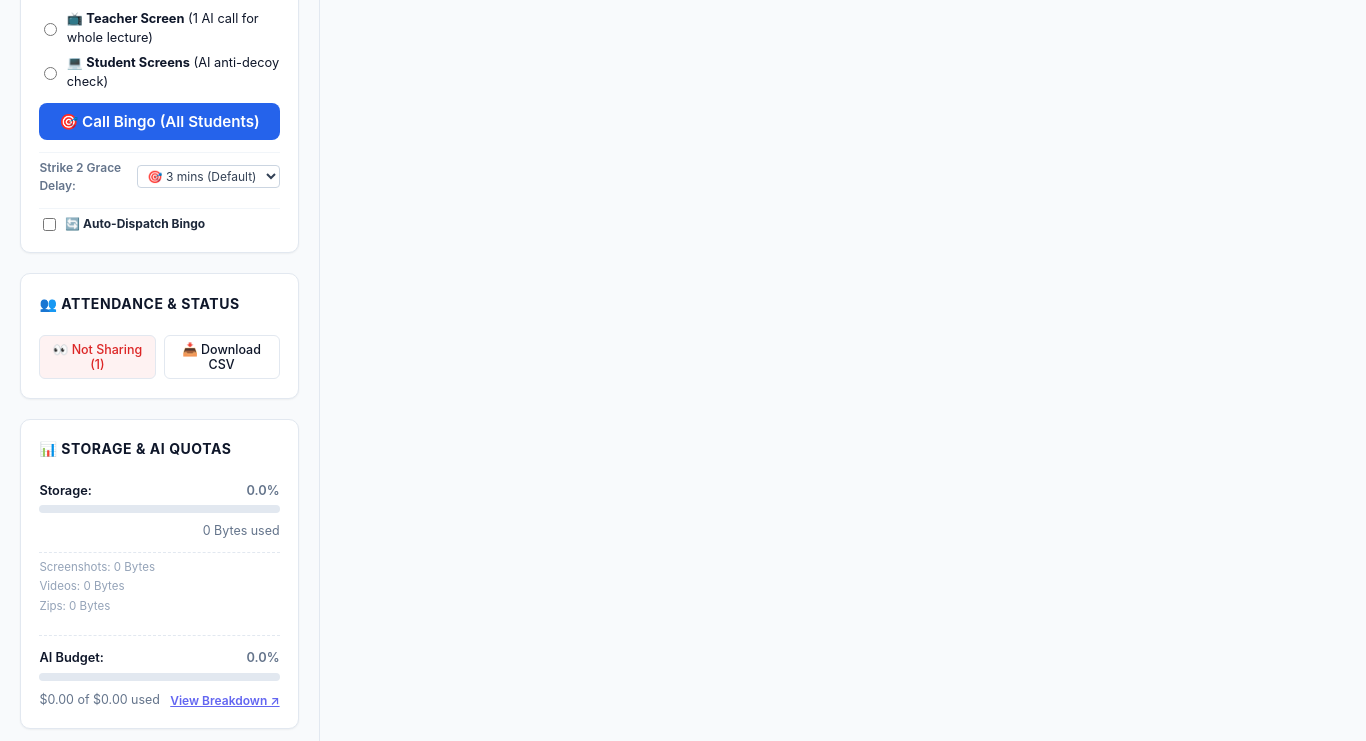
Test: MonitorView Component Suite › opens and closes Not Sharing students modal
(page scrolled)
Click the button "👀 Not Sharing (1)" at coordinates (97, 357), box [39,335,156,379]
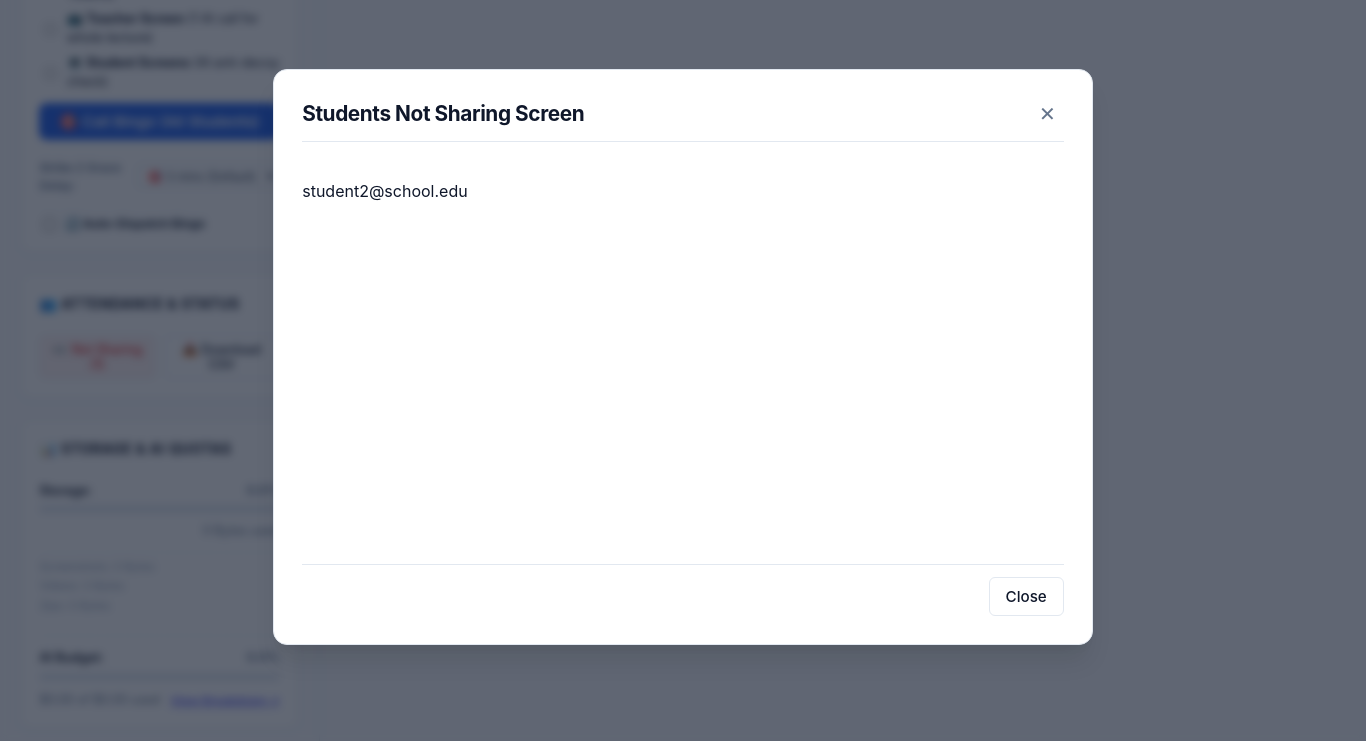
Expected: the heading "Students Not Sharing Screen" is shown, [302,98,584,129]
Note: Close modal
Click the button "Close" at coordinates (1026, 597), box [988,577,1064,616]
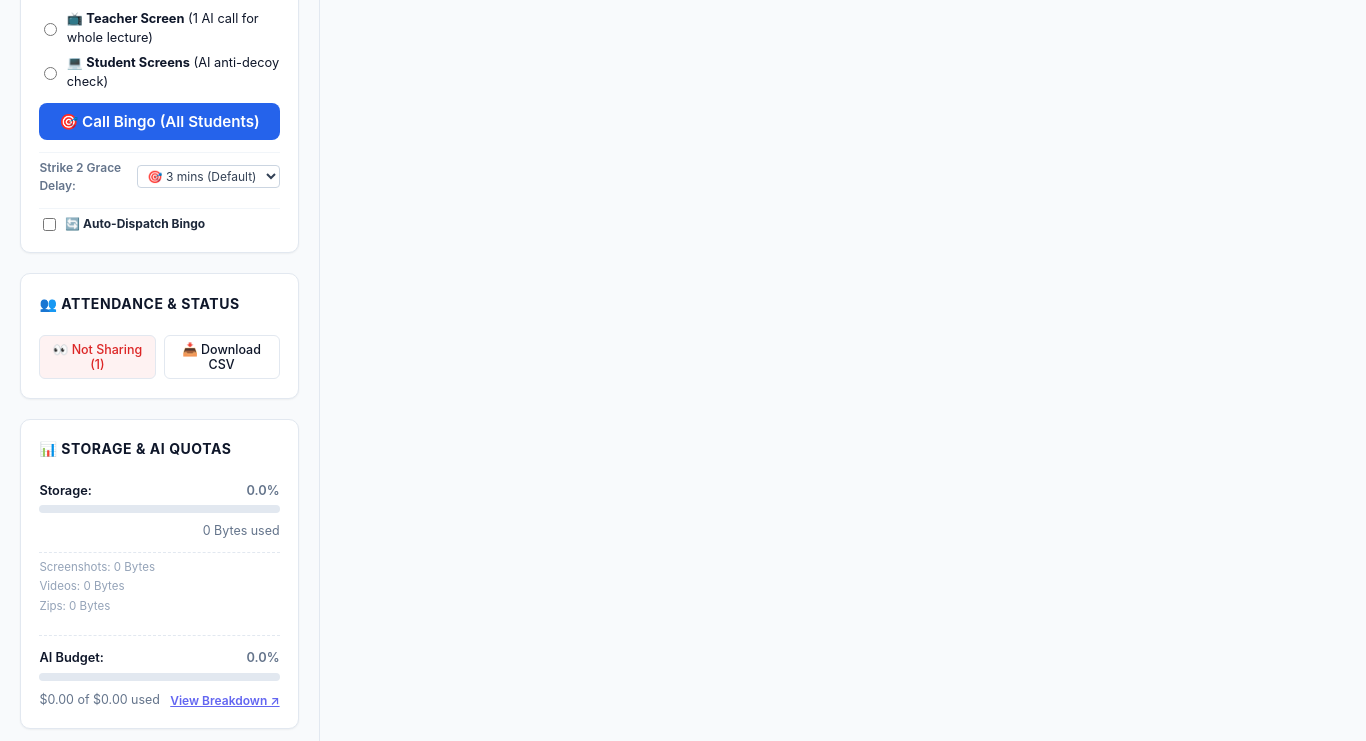
Expected: the heading "Students Not Sharing" is gone
